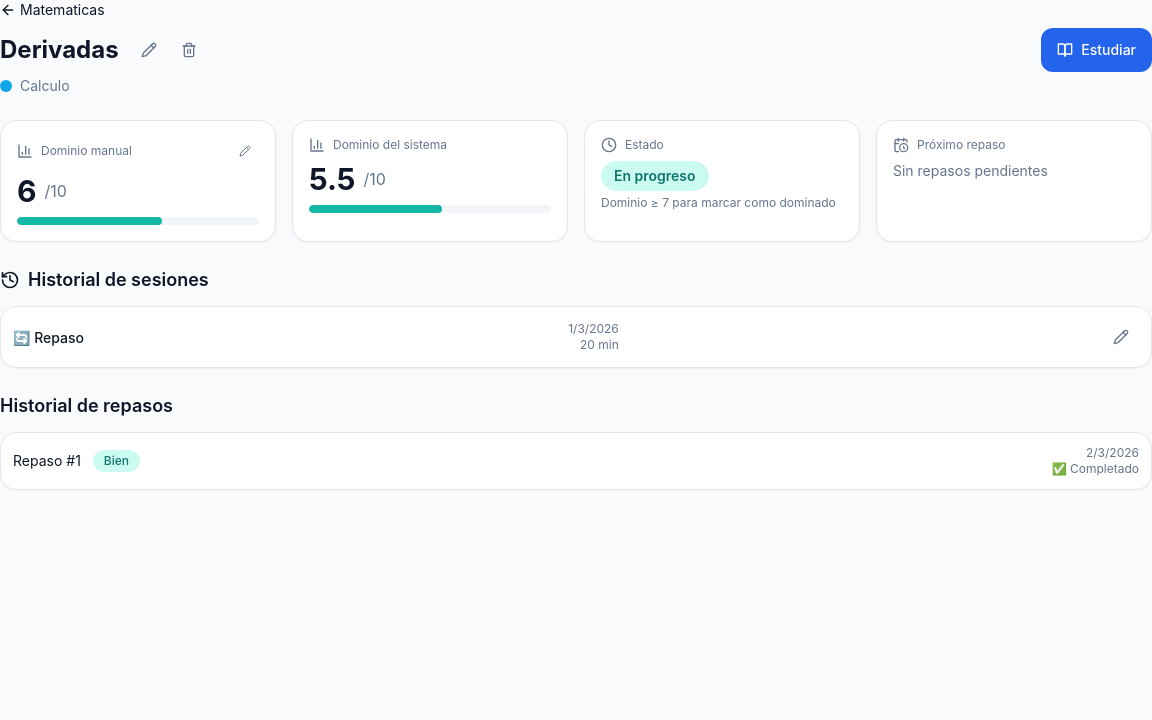
Test case: TopicDetailPage history editing scope › keeps session history edit entry point and dialog date-only input
Click the button named "Editar sesion" at (1121, 337), box [1103, 319, 1139, 355]
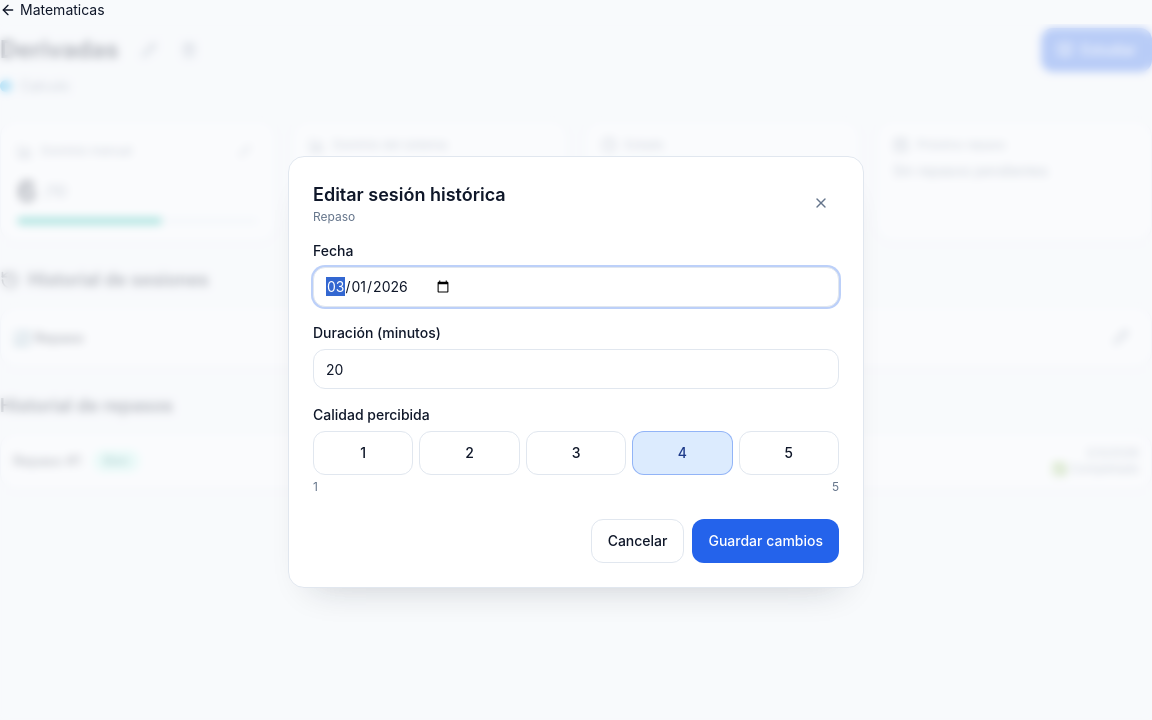
Now the heading "Editar sesión histórica" is shown, box [313, 181, 506, 209]
